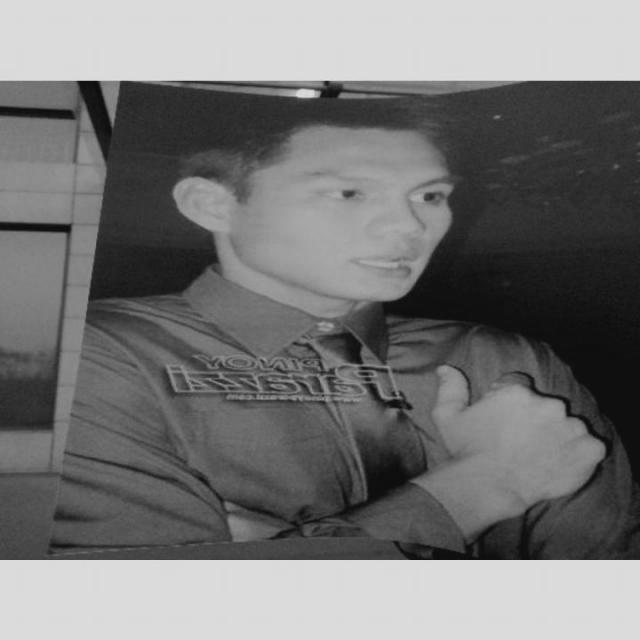fake: (50, 80, 640, 558)
